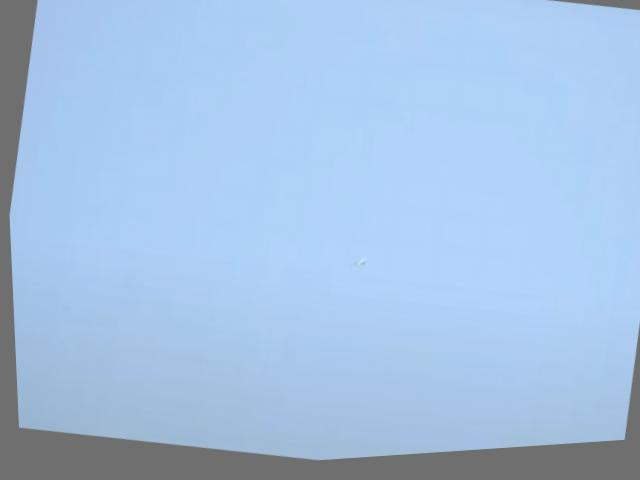iha: (352, 259, 365, 273)
